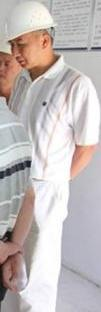boots: (0, 234, 11, 249), (0, 217, 9, 230)
hard-hat: (0, 14, 36, 77)
